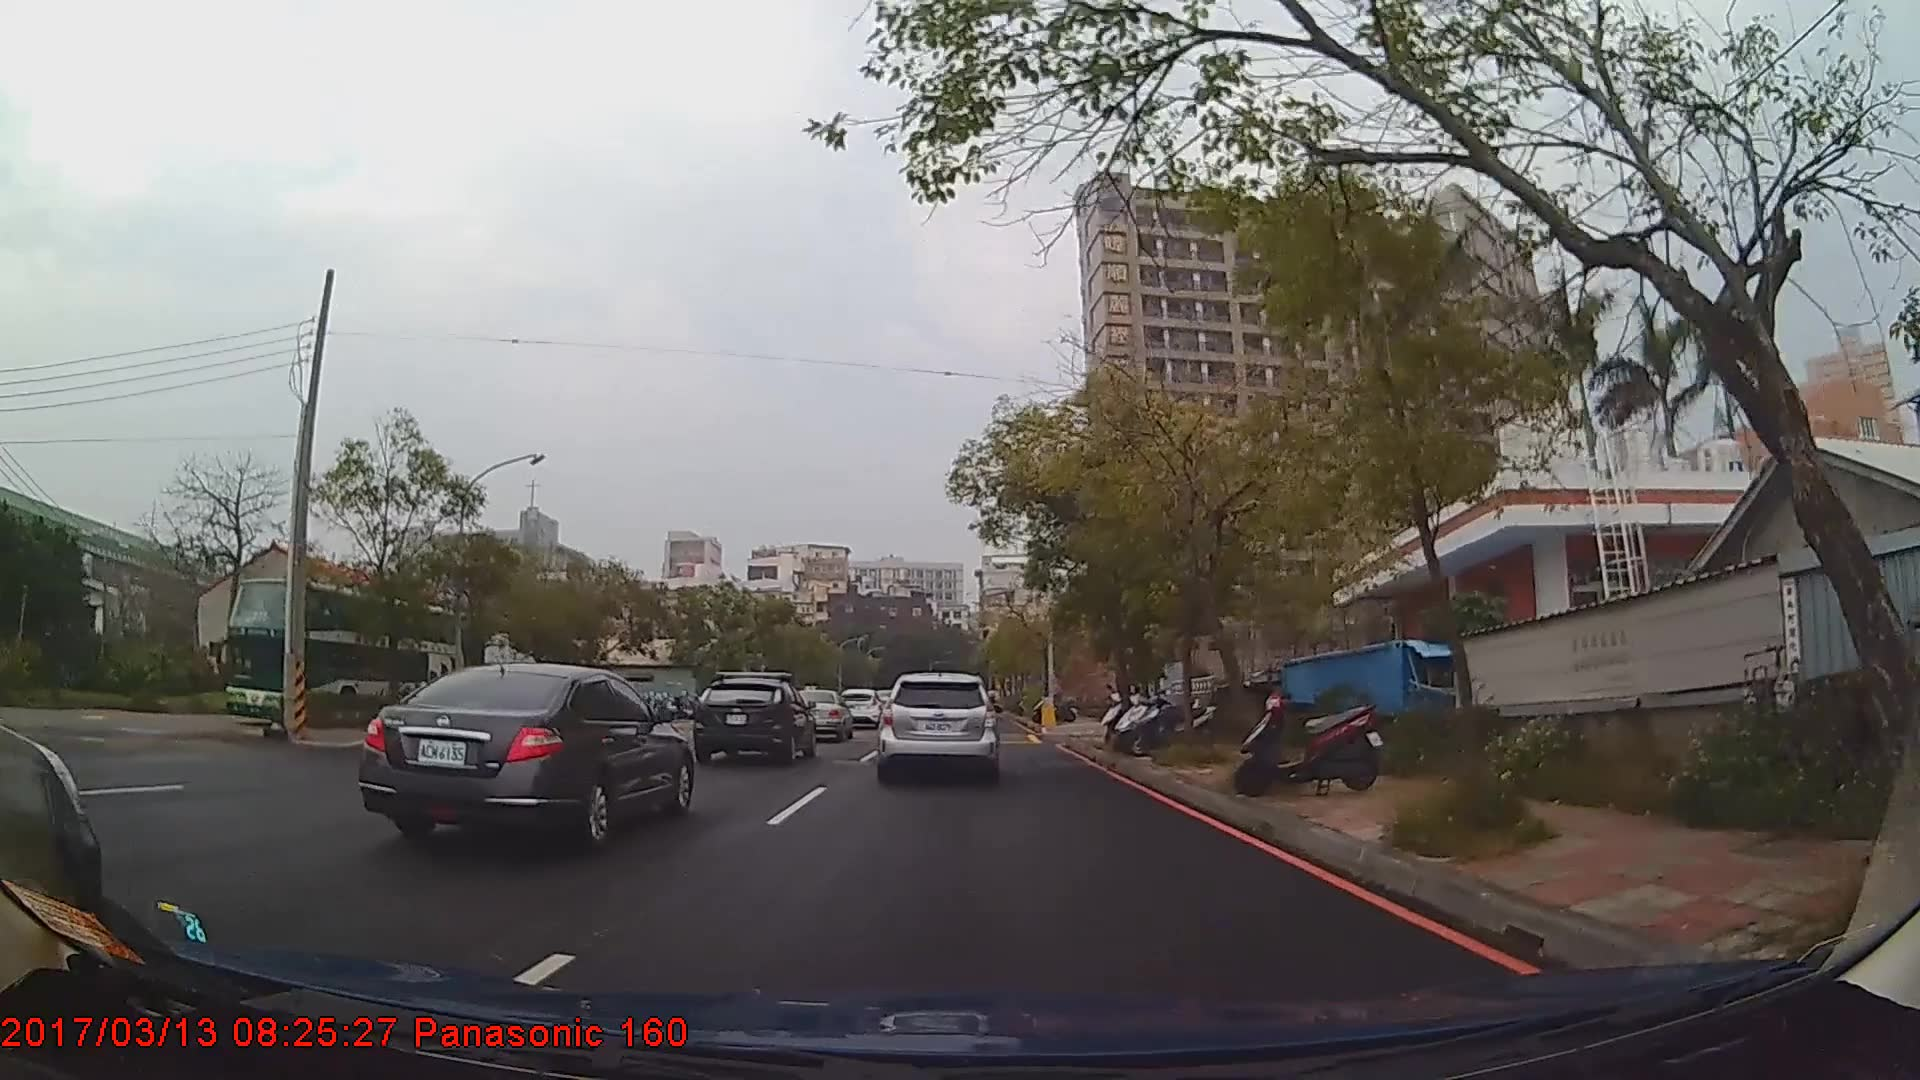vehicle: (357, 659, 694, 847), (222, 576, 459, 735), (877, 667, 998, 778), (692, 669, 815, 764), (791, 684, 853, 738), (837, 684, 884, 727)
